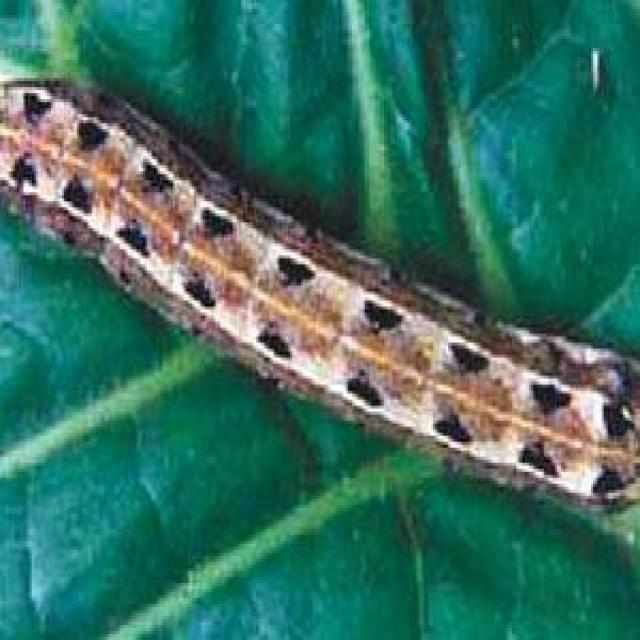armyworm: (1, 49, 640, 538)
